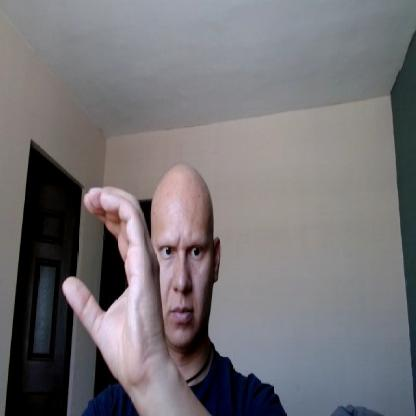C: (61, 186, 166, 385)
